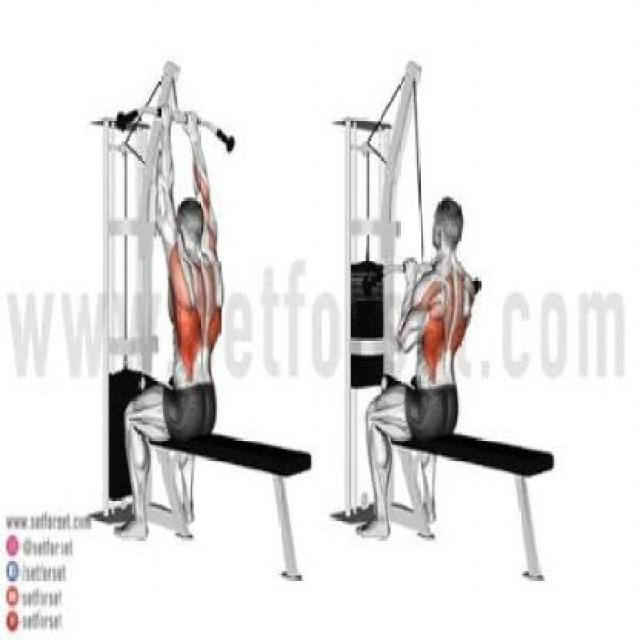Lat Pull Down: (330, 48, 564, 589), (83, 51, 314, 597)
